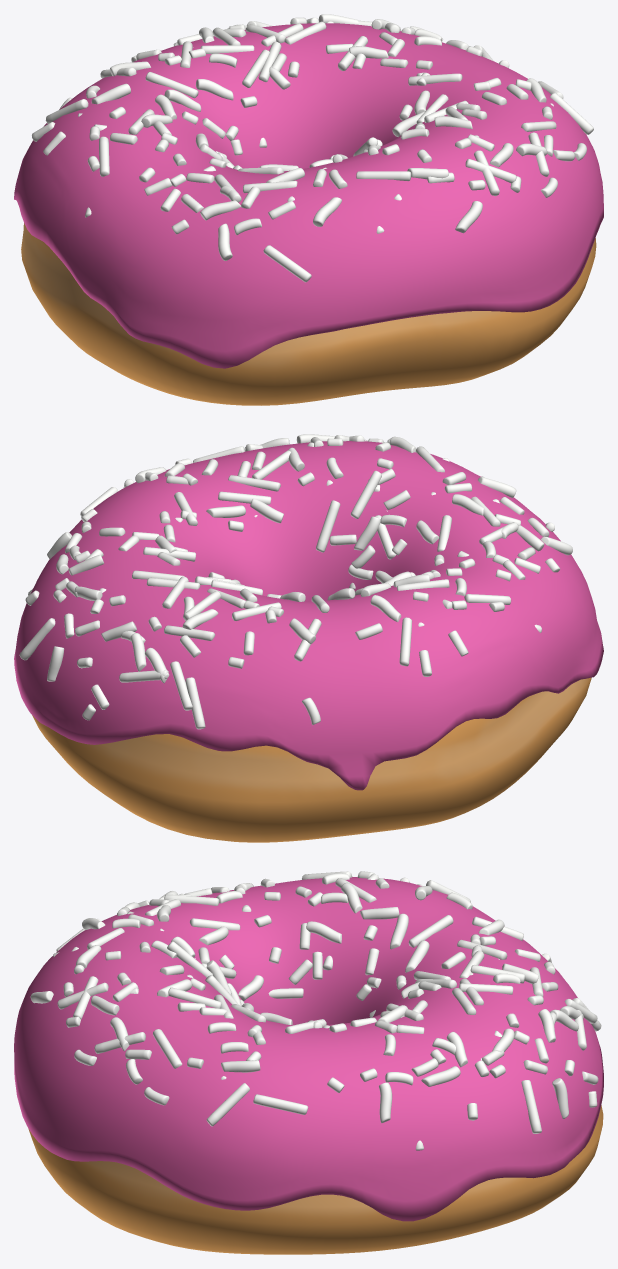
The model's file is donut6.glb.
3 renders of one model, top to bottom at view 1: azimuth 30°, elevation 25°; view 2: azimuth 150°, elevation 25°; view 3: azimuth 270°, elevation 25°, orthographic. The views are drawn at different scales.
Parts seen in each view (by area): view 1: Icing, Donut; view 2: Icing, Donut; view 3: Icing, Donut.
Boxes of the visible parts, x1,y1,x2,y2 form: Icing: (14,14,603,368); Donut: (21,223,596,405); Icing: (14,434,603,790); Donut: (32,677,591,842); Icing: (14,871,603,1221); Donut: (28,1105,603,1254).
Size of the model in its own units: 0.1009 by 0.0482 by 0.1031.
Materials: 3 (1 with a texture image).
